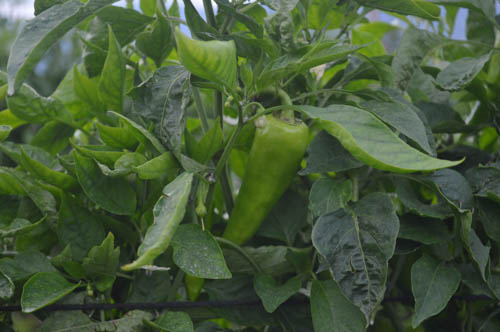ChiliPepper: (227, 117, 307, 258)
